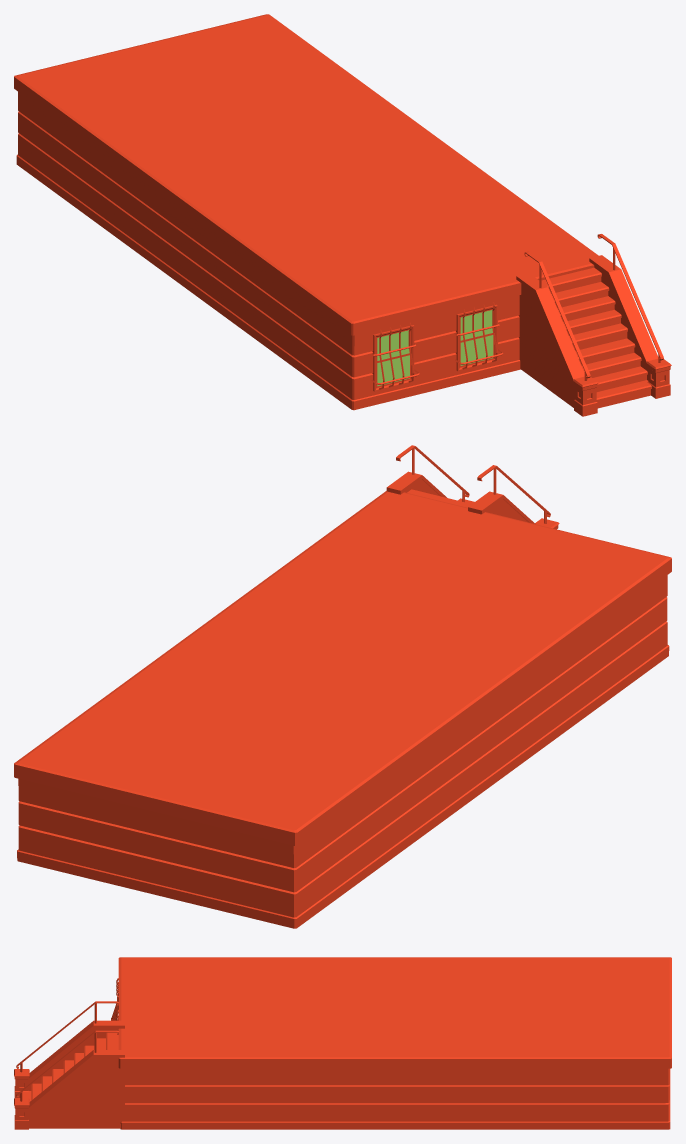
File: SM_Squarehouse_Bottom_C_F_City.fbx
The picture shows the model from 3 angles, top to bottom: view 1: azimuth 30°, elevation 25°; view 2: azimuth 150°, elevation 25°; view 3: azimuth 270°, elevation 25°; orthographic projection. The views are drawn at different scales.
Parts seen in each view (by area): view 1: SM_Squarehouse_Bottom_C_F_City; view 2: SM_Squarehouse_Bottom_C_F_City; view 3: SM_Squarehouse_Bottom_C_F_City.
Part boxes in pixels (left/top/right/bottom): SM_Squarehouse_Bottom_C_F_City: left=14, top=14, right=671, bottom=416; SM_Squarehouse_Bottom_C_F_City: left=14, top=445, right=671, bottom=928; SM_Squarehouse_Bottom_C_F_City: left=14, top=957, right=671, bottom=1129.
Size of the model in its own units: 6.14 by 2.7 by 16.75.
